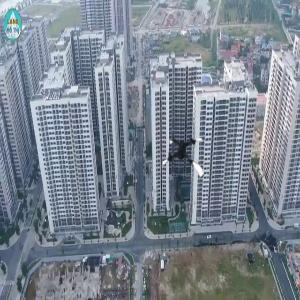drone: (160, 132, 213, 185)
